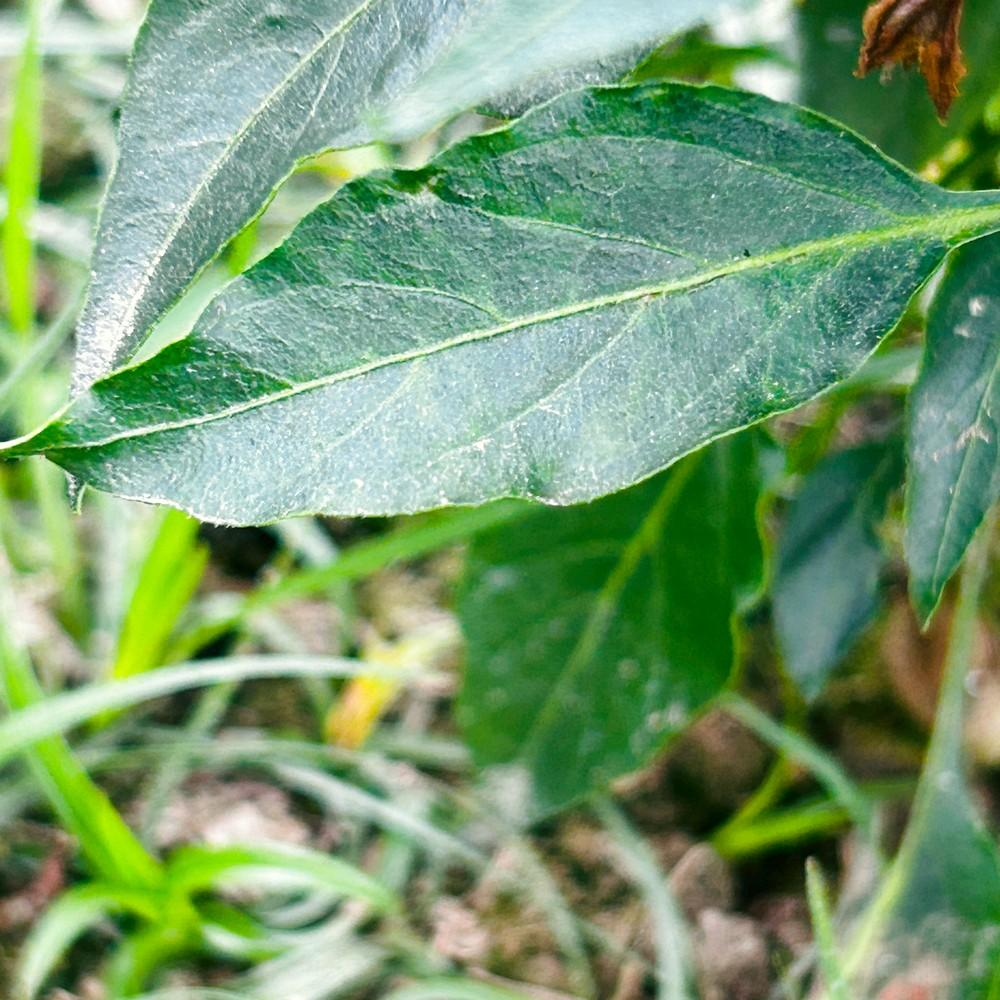Daun Cabai Sehat: (1, 74, 931, 531), (56, 0, 513, 514), (900, 221, 1000, 630)
